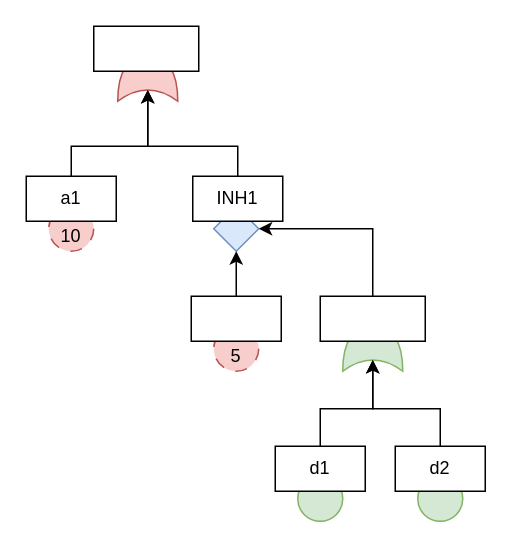
Image size: 512x548. Some labels were removed from this diagram. Each missing label, with the centre of its shape:
a2: (x=235, y=318)
Or_gate_1: (x=147, y=78)
Or_gate_2: (x=372, y=348)
